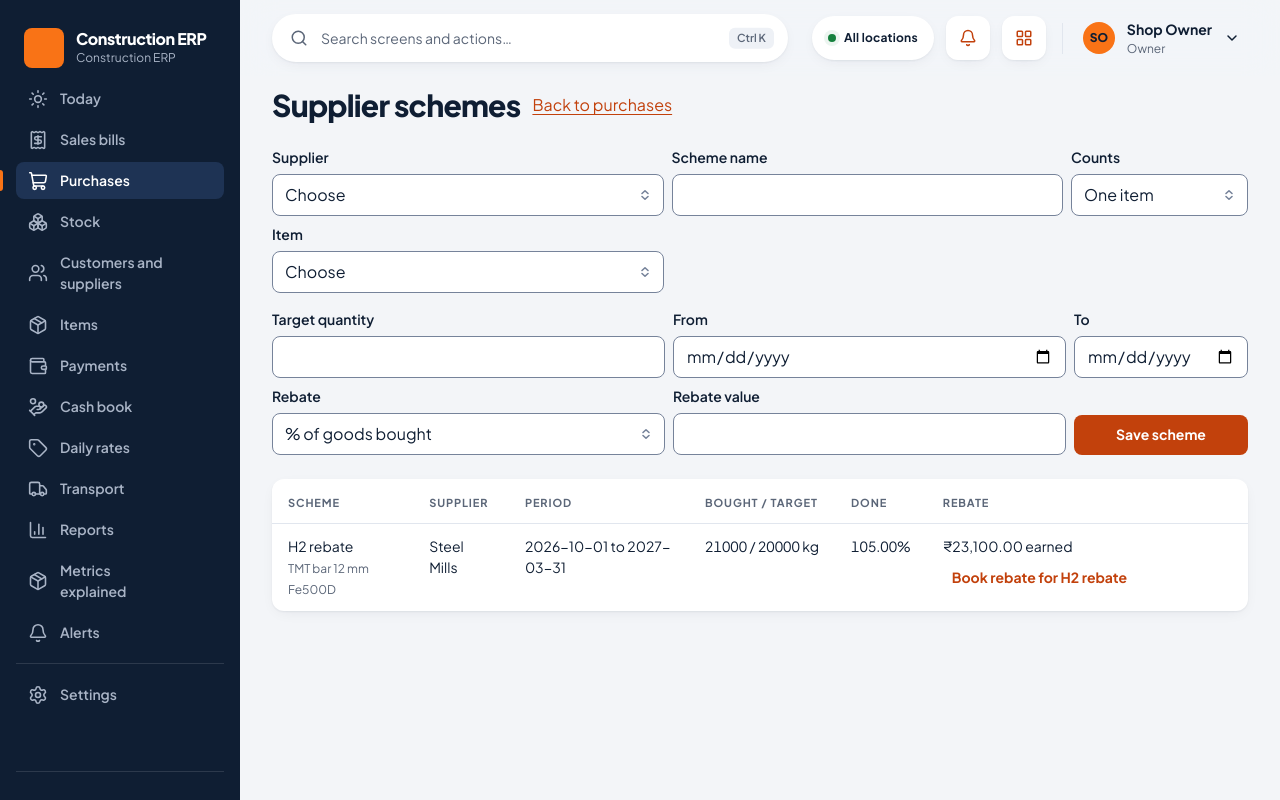
Scenario: Supplier schemes › shows progress and lets the owner book an earned rebate
Expected: the text "21000 / 20000 kg" is shown, [689, 524, 835, 611]
Expected: the text "105.00%" is shown, [835, 524, 927, 611]
Click the button "Book rebate for H2 rebate": (1039, 577) [943, 557, 1136, 597]
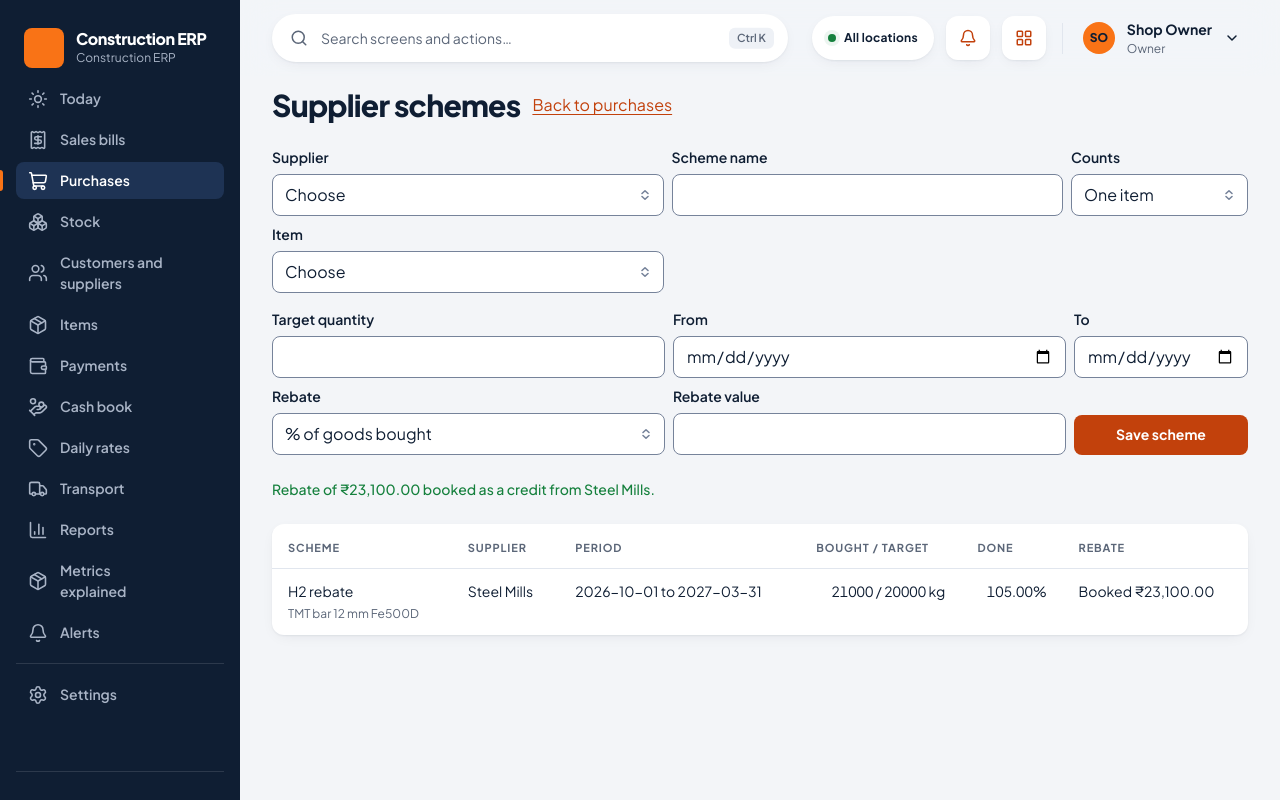
Expected: the text "Rebate of ₹23,100.00 booked as a credit from Steel Mills." is shown, [272, 480, 655, 498]
Expected: the text "Booked ₹23,100.00" is shown, [1062, 568, 1248, 635]
